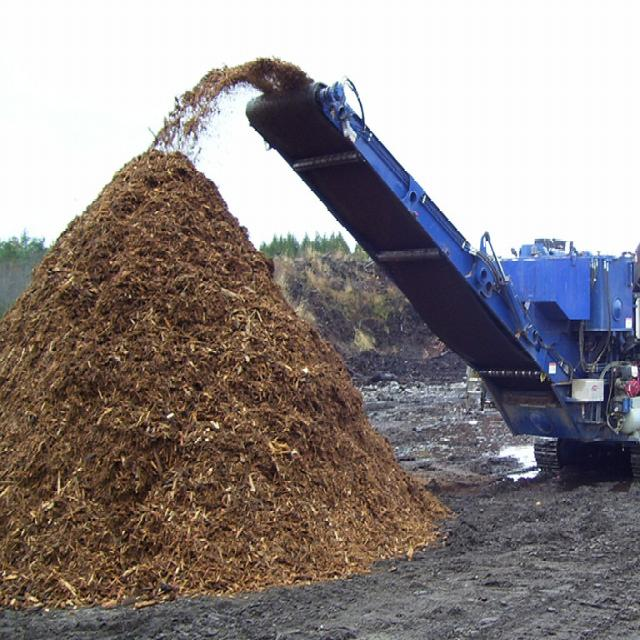green waste: (0, 102, 469, 636)
